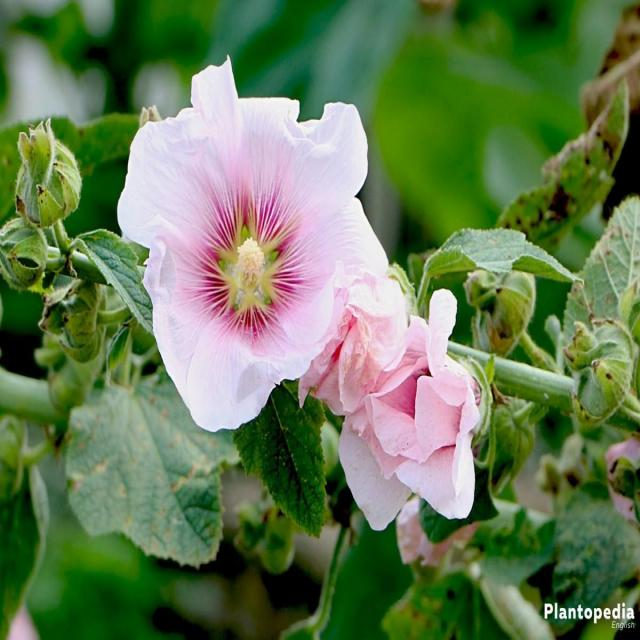organic waste: (118, 56, 388, 421), (314, 269, 479, 531)
